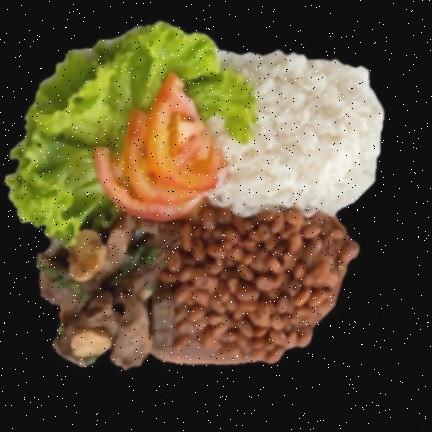beans: (169, 201, 356, 363)
meat: (40, 207, 181, 369)
rice: (204, 52, 383, 217)
salad: (6, 21, 257, 243)
tomato: (95, 70, 237, 219)
